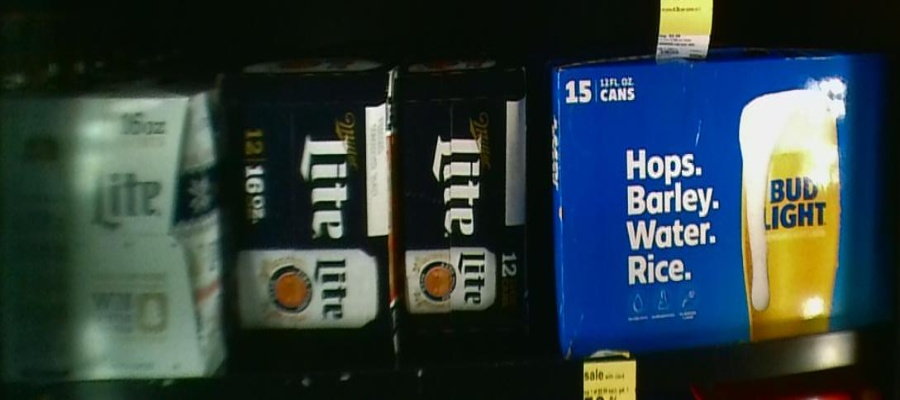bottle: (550, 53, 898, 354), (1, 75, 227, 380), (231, 60, 395, 349), (398, 61, 531, 327)
